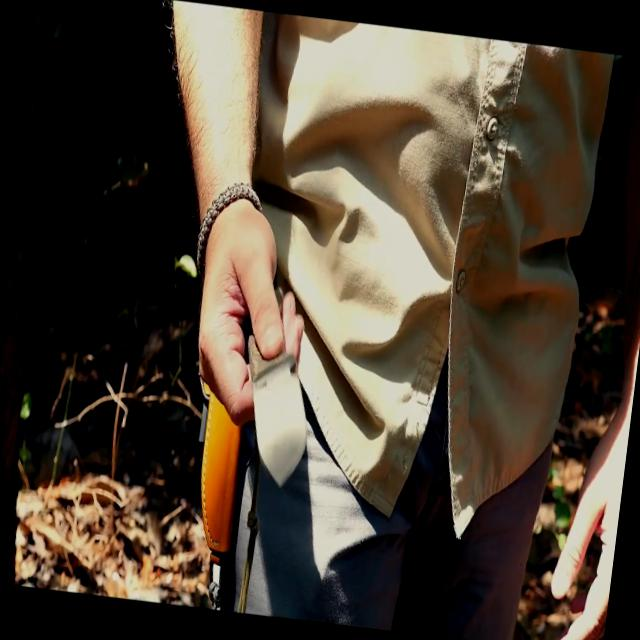knife: (172, 252, 332, 506)
